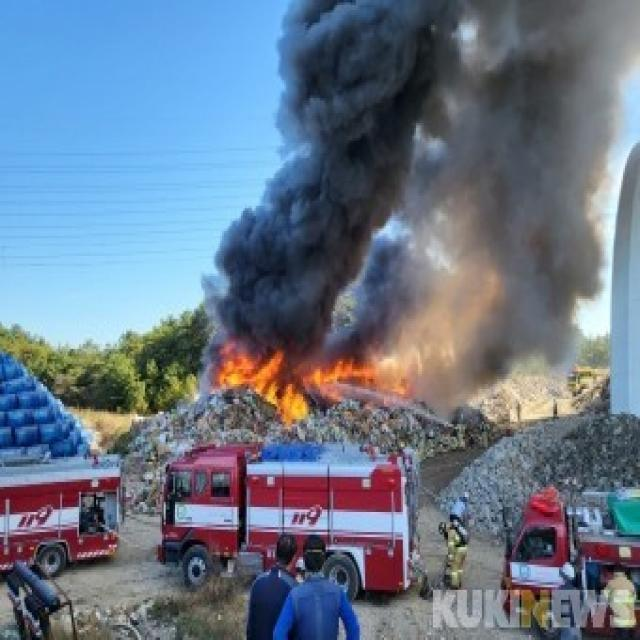Fire: (206, 335, 315, 429), (304, 348, 413, 415)
Smoke: (169, 0, 637, 411), (405, 0, 640, 418)
